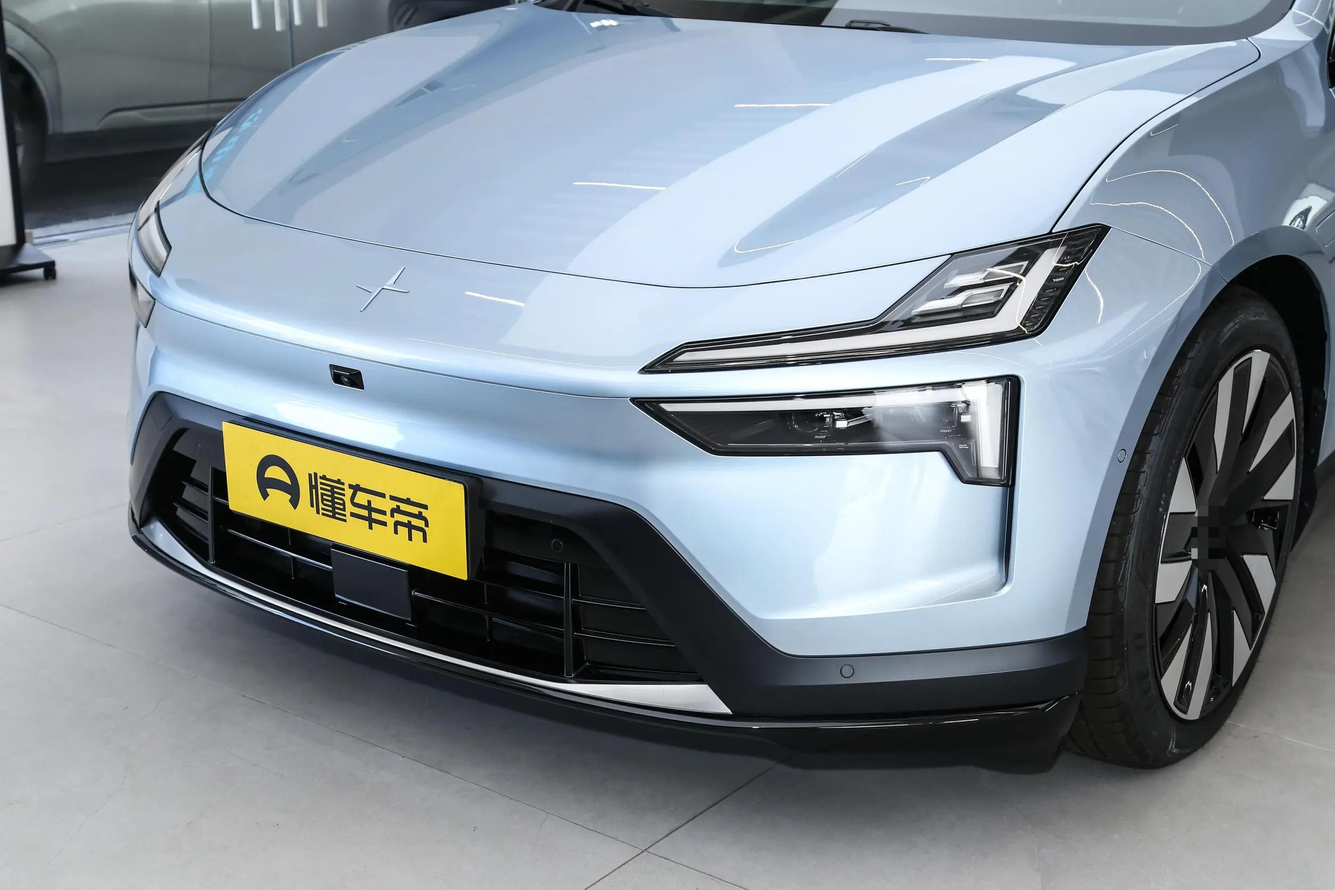Polestar: (357, 267, 409, 311)
